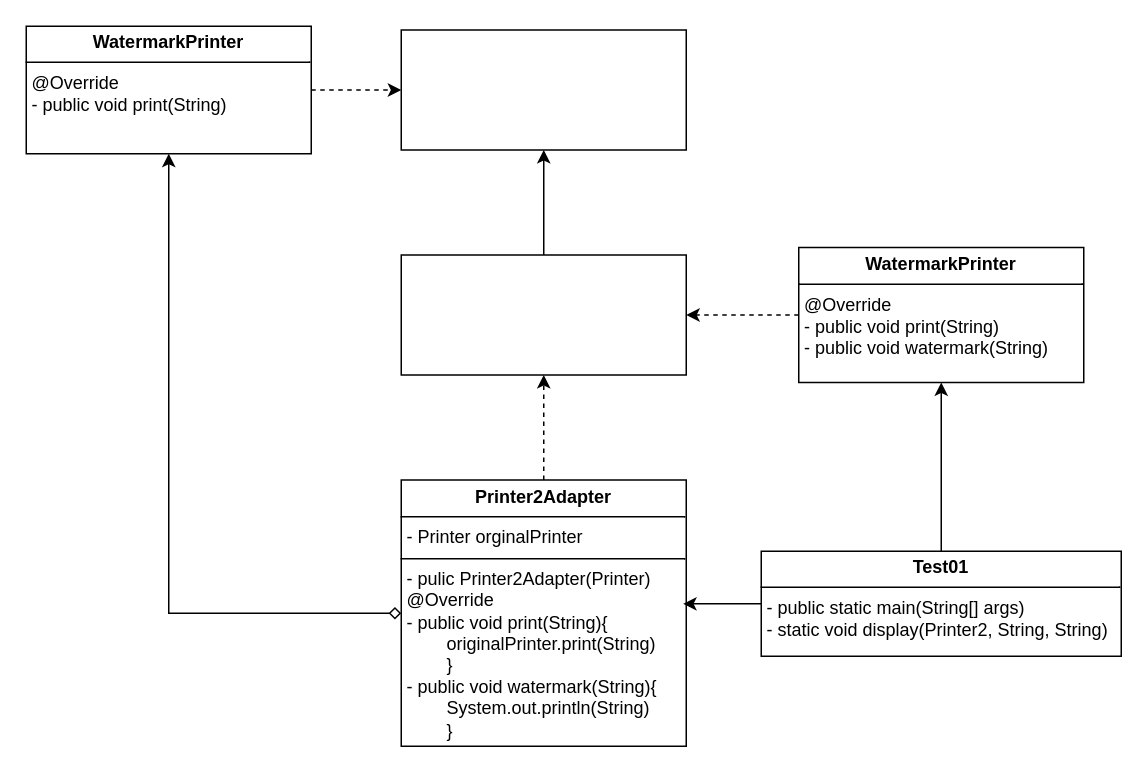
Some shapes in this 1148 by 773 pixel diagram are drawn without their labels. The centre of each missing label's shape, as x and y in pixels:
"<<Interface>> Printer - void print(String);" goes at point 543,89.
"<<Interface>> Printer2 - void watermark(String)" goes at point 543,314.
